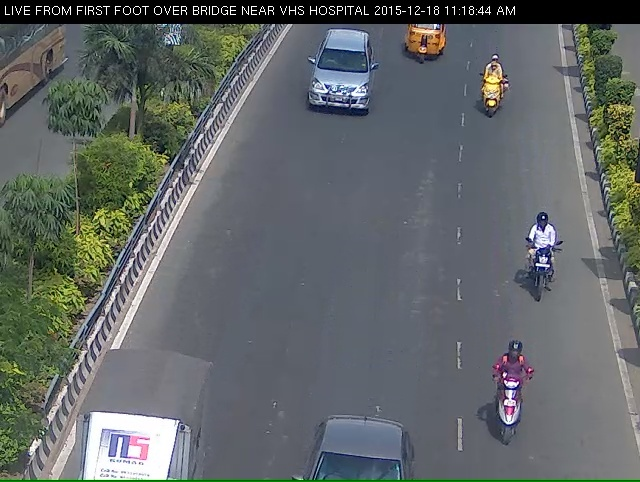Auto: (56, 369, 199, 481), (396, 21, 454, 73)
Car: (306, 34, 374, 133)
Person: (493, 373, 535, 475), (524, 224, 562, 320), (478, 59, 507, 127)
